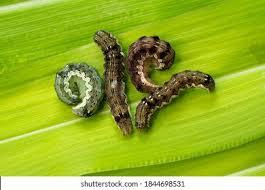Insects: (134, 67, 217, 132), (95, 26, 135, 142), (125, 33, 178, 98), (53, 59, 106, 119)
